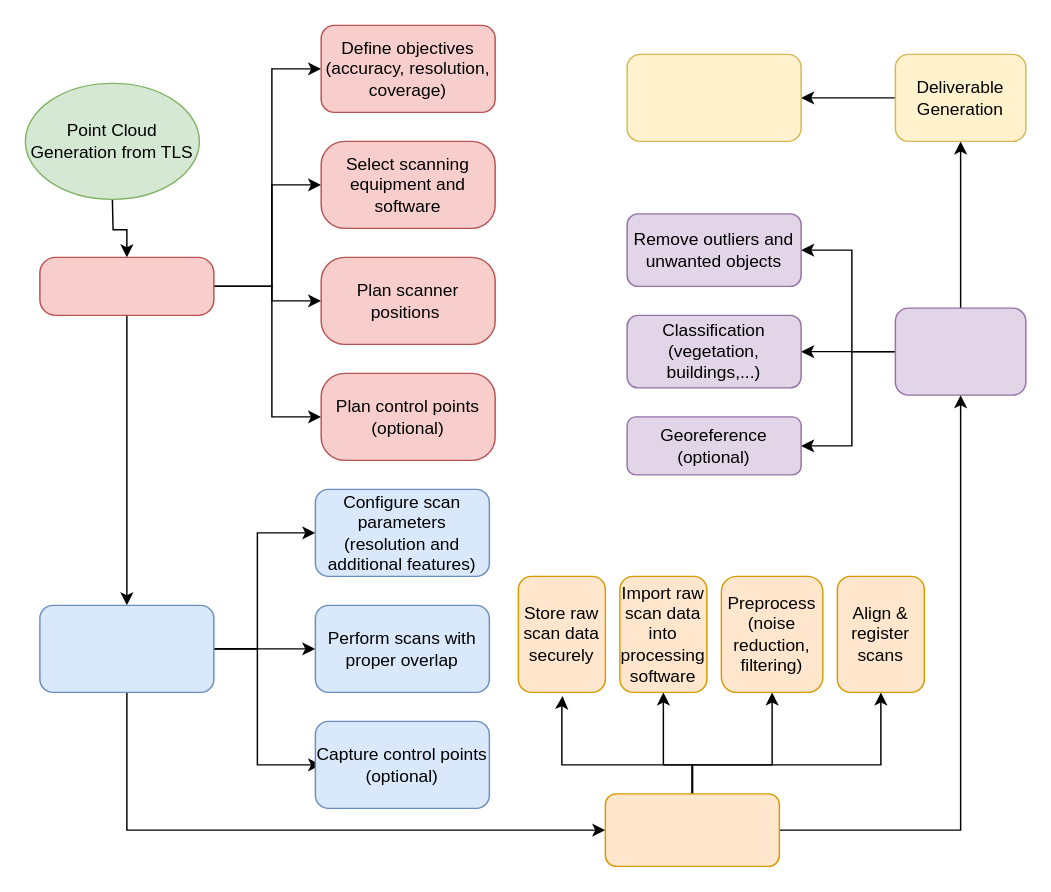
The diagram is 1051 pixels wide and 892 high, and some of its shapes have lost their labels. Here are the shapes that lost their labels. From the top down, the centre of each, then its label:
[713,97]: Export in required formats (LAS, E57, PLY, XYZ, etc.)
[126,285]: Planning
[960,351]: Point Cloud Optimization
[126,648]: Field Data Acquisition
[691,829]: Point Cloud Processing
